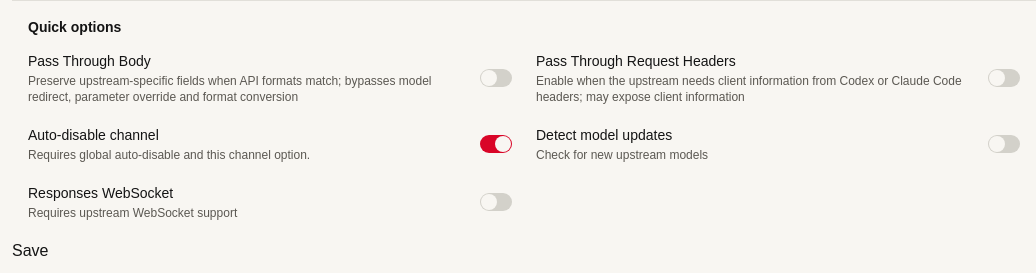
Scenario: body passthrough quick option › enabling asks for confirmation and disabling does not
This screenshot has width=1036, height=273.
Click the 1st switch named "Pass Through Body". click: x=496, y=78
box: [480,69,512,87]
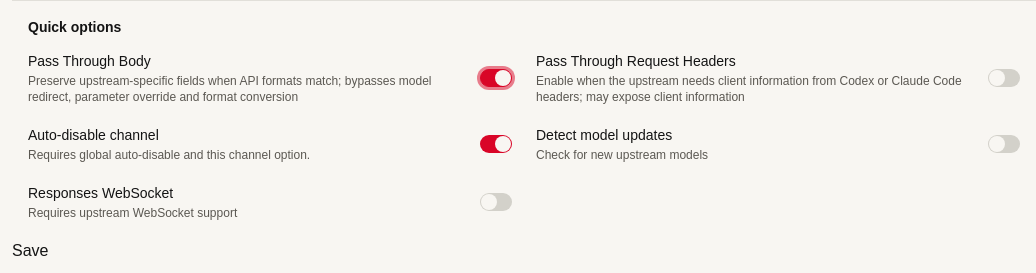
expect the 1st switch named "Pass Through Body" is checked: met
Click the 1st switch named "Pass Through Body". click: x=496, y=78
box: [480,69,512,87]
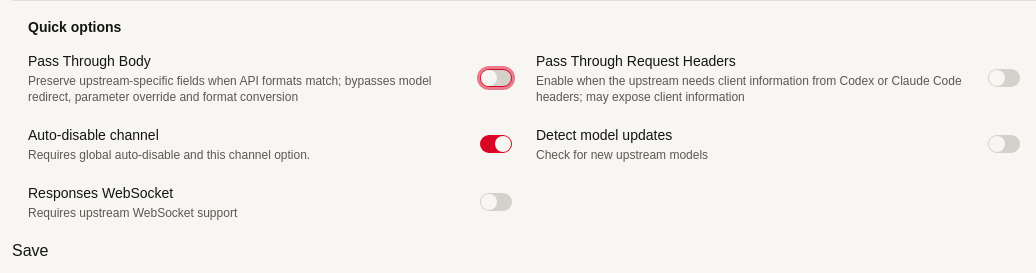
expect the 1st switch named "Pass Through Body" is not checked: met, box [480,69,512,87]
